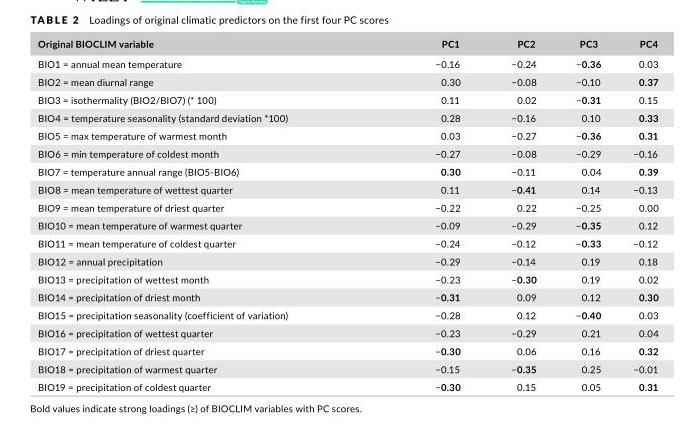table: (36, 37, 657, 392)
table column: (36, 37, 360, 392), (360, 37, 485, 392), (485, 37, 555, 392), (555, 37, 616, 392), (616, 37, 657, 392)
table column header: (36, 37, 657, 53)
table row: (36, 53, 657, 72), (36, 72, 657, 90), (36, 90, 657, 108), (36, 108, 657, 126), (36, 126, 657, 144), (36, 144, 657, 162), (36, 162, 657, 180), (36, 197, 657, 215), (36, 215, 657, 233), (36, 233, 657, 251), (36, 251, 657, 269), (36, 269, 657, 287), (36, 287, 657, 305), (36, 305, 657, 323), (36, 323, 657, 341), (36, 341, 657, 359), (36, 359, 657, 377), (36, 180, 657, 197), (36, 37, 657, 53), (36, 377, 657, 392)
